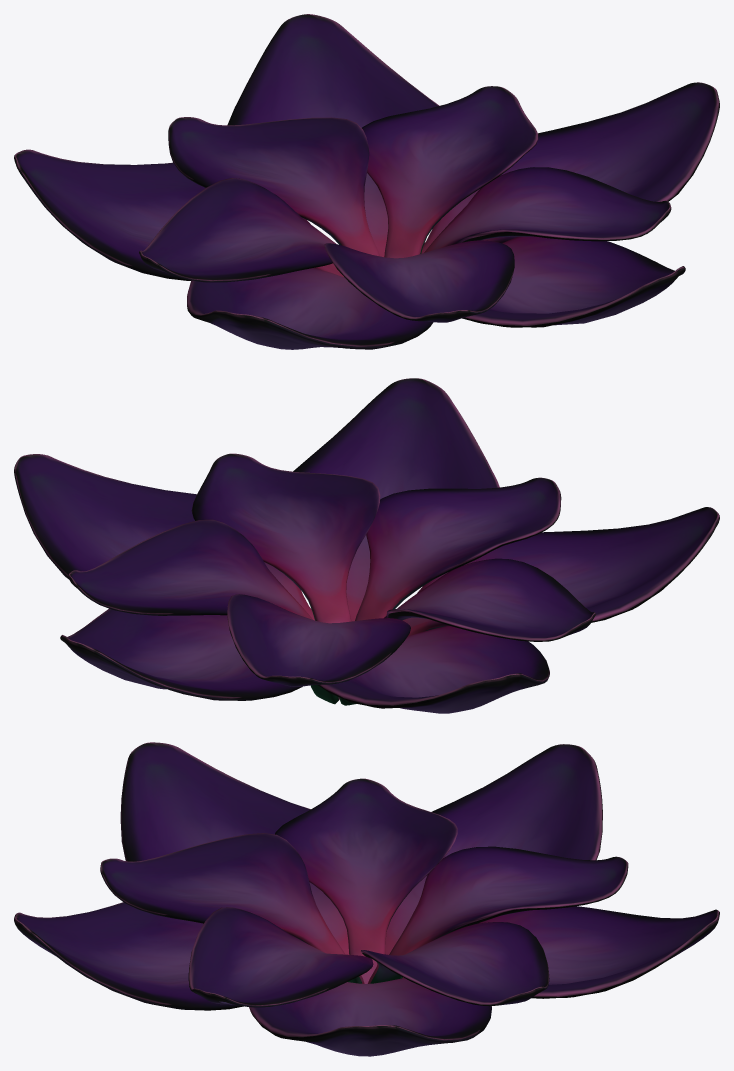
File: flower.glb
The picture shows the model from 3 angles, top to bottom: view 1: azimuth 30°, elevation 25°; view 2: azimuth 150°, elevation 25°; view 3: azimuth 270°, elevation 25°; orthographic projection. The views are drawn at different scales.
Parts seen in each view (by area): view 1: Circle.005; view 2: Circle.005; view 3: Circle.005.
Part boxes in pixels (x1,y1,x2,y2): Circle.005: (14,14,719,349); Circle.005: (14,378,719,713); Circle.005: (14,742,719,1056).
Size of the model in its own units: 6.56 by 1.72 by 6.84.
Materials: 1 (1 with a texture image).
